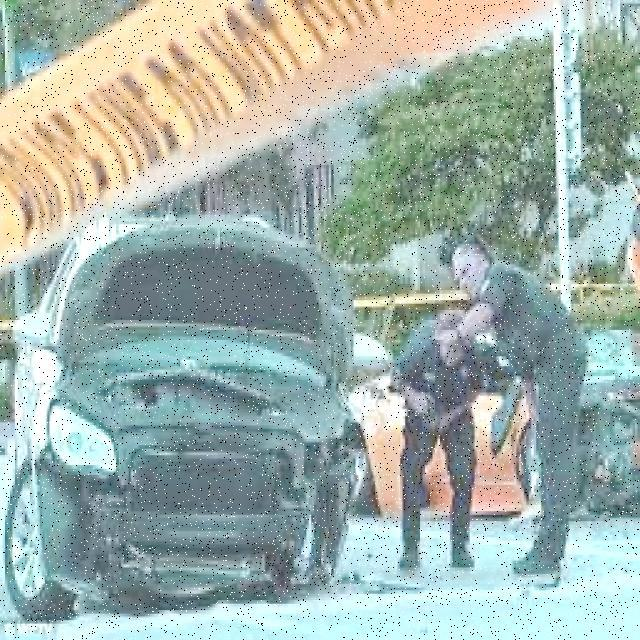car damage: (45, 356, 357, 621)
